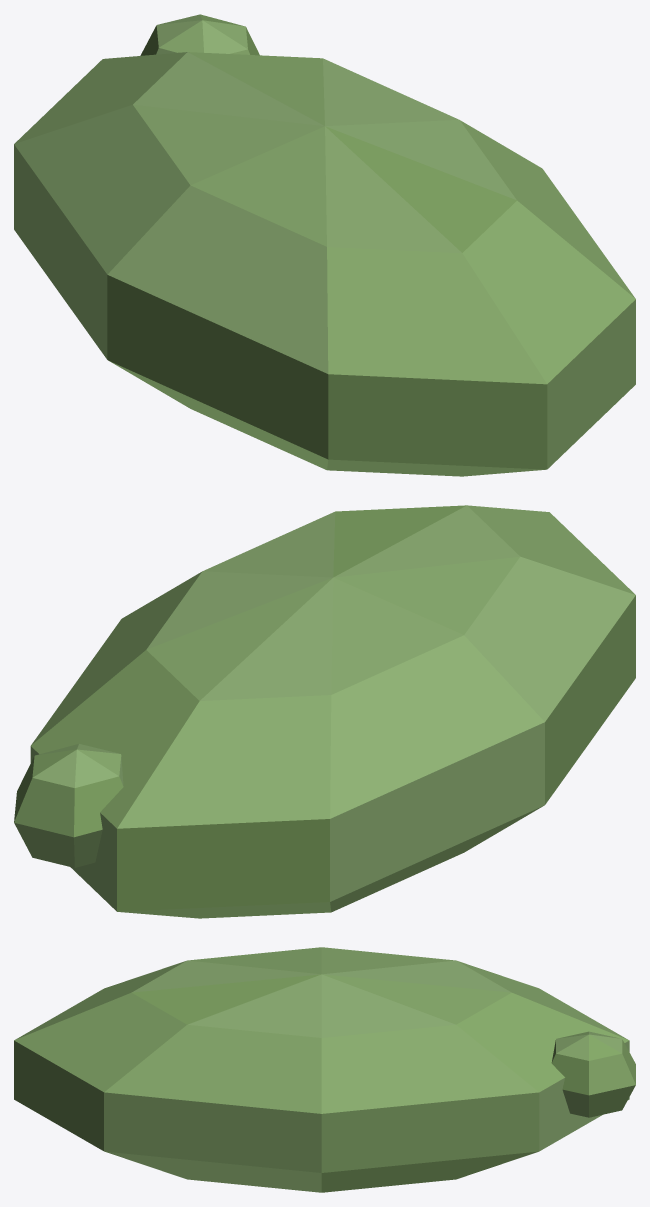
File: foot_r.glb
3 views of the same model, one above another, from view 1: azimuth 30°, elevation 25°; view 2: azimuth 150°, elevation 25°; view 3: azimuth 270°, elevation 25° (orthographic). The views are drawn at different scales.
Visible parts, largest first — view 1: foot_r2; view 2: foot_r2; view 3: foot_r2.
Boxes of the visible parts, x1,y1,x2,y2 form: foot_r2: (14, 14, 635, 476); foot_r2: (14, 505, 635, 918); foot_r2: (14, 947, 635, 1192).
Bounding box in the file's own units: 0.2473 × 0.15 × 0.4421.
